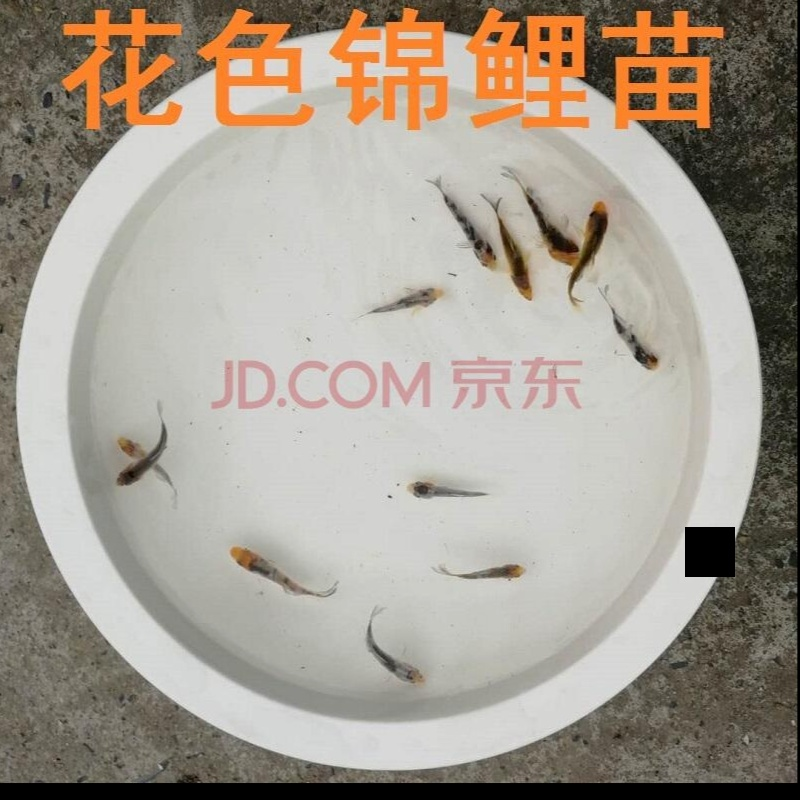fry: (230, 546, 344, 621), (351, 617, 440, 698), (602, 307, 675, 397), (431, 546, 539, 603), (519, 181, 579, 282), (437, 182, 500, 278), (367, 275, 459, 334), (569, 184, 607, 313), (497, 208, 538, 310), (403, 472, 497, 507), (106, 431, 161, 464), (112, 457, 150, 492)
